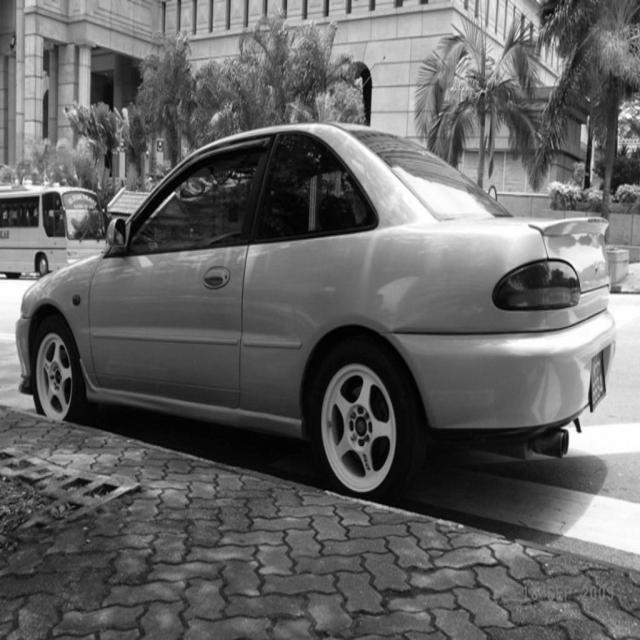plate: (589, 348, 609, 412)
